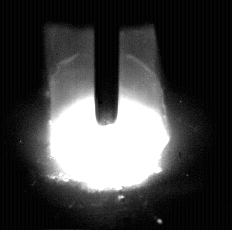arame: (95, 0, 120, 125)
poca: (49, 0, 171, 230)
